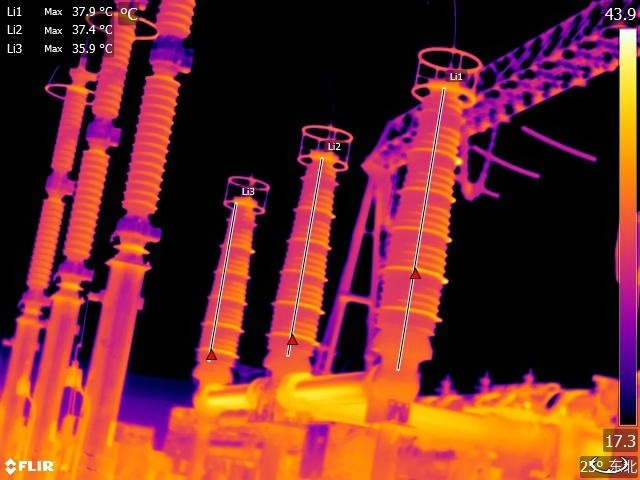lightning arrester: (56, 1, 154, 289), (114, 1, 208, 256), (17, 45, 104, 308)
tube: (366, 27, 487, 375), (261, 106, 357, 373), (188, 156, 270, 381)
